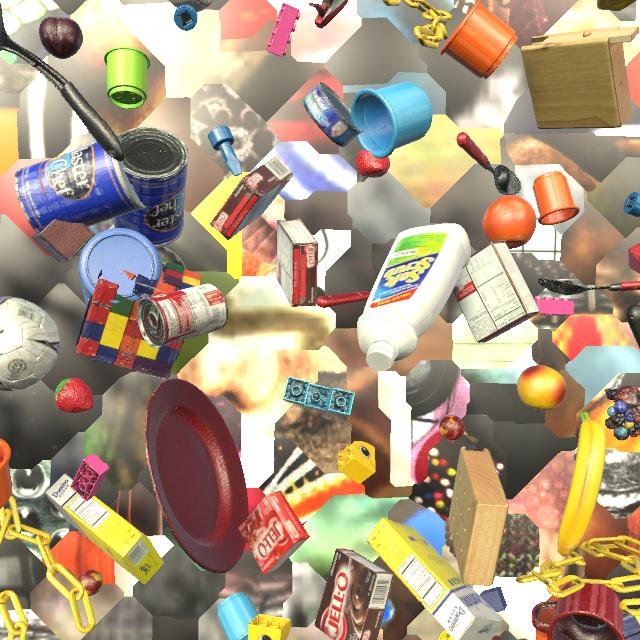ycb_002_master_chef_can: (14, 135, 146, 234), (114, 127, 188, 248)
ycb_004_sugar_box: (366, 518, 503, 640), (45, 474, 164, 585)
ycb_005_tomato_soup_can: (137, 284, 228, 349)
ycb_006_mustard_bottle: (597, 0, 636, 11)
ycb_007_tuna_fish_can: (303, 82, 363, 147)
ycb_008_pudding_box: (453, 240, 541, 343), (314, 548, 394, 640), (210, 156, 293, 240), (276, 218, 318, 307)
ycb_009_gelatin_box: (238, 490, 310, 575)
ycb_011_banana: (557, 412, 606, 557)
ycb_012_strawberry: (54, 378, 94, 413), (356, 149, 390, 178)
ycb_015_peach: (517, 365, 567, 411)
ycb_017_orange: (482, 195, 537, 249)
ycb_018_plum: (39, 17, 83, 59)
